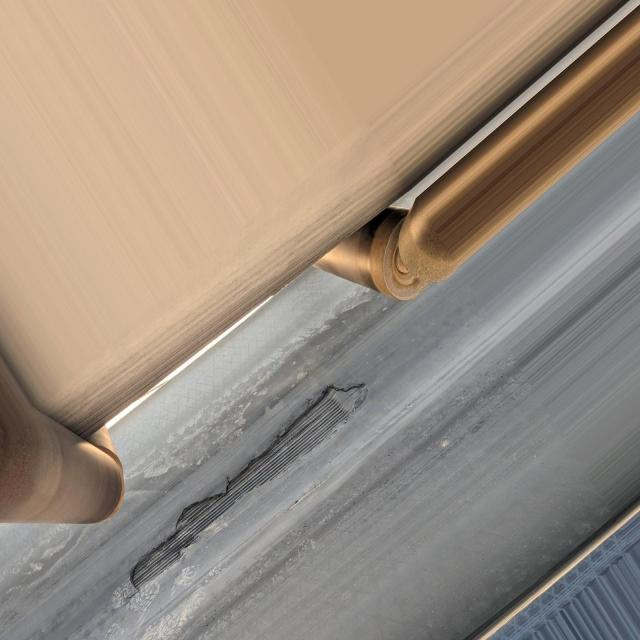Roller: (304, 1, 640, 297), (0, 345, 125, 534)
Tear: (127, 374, 377, 614)
